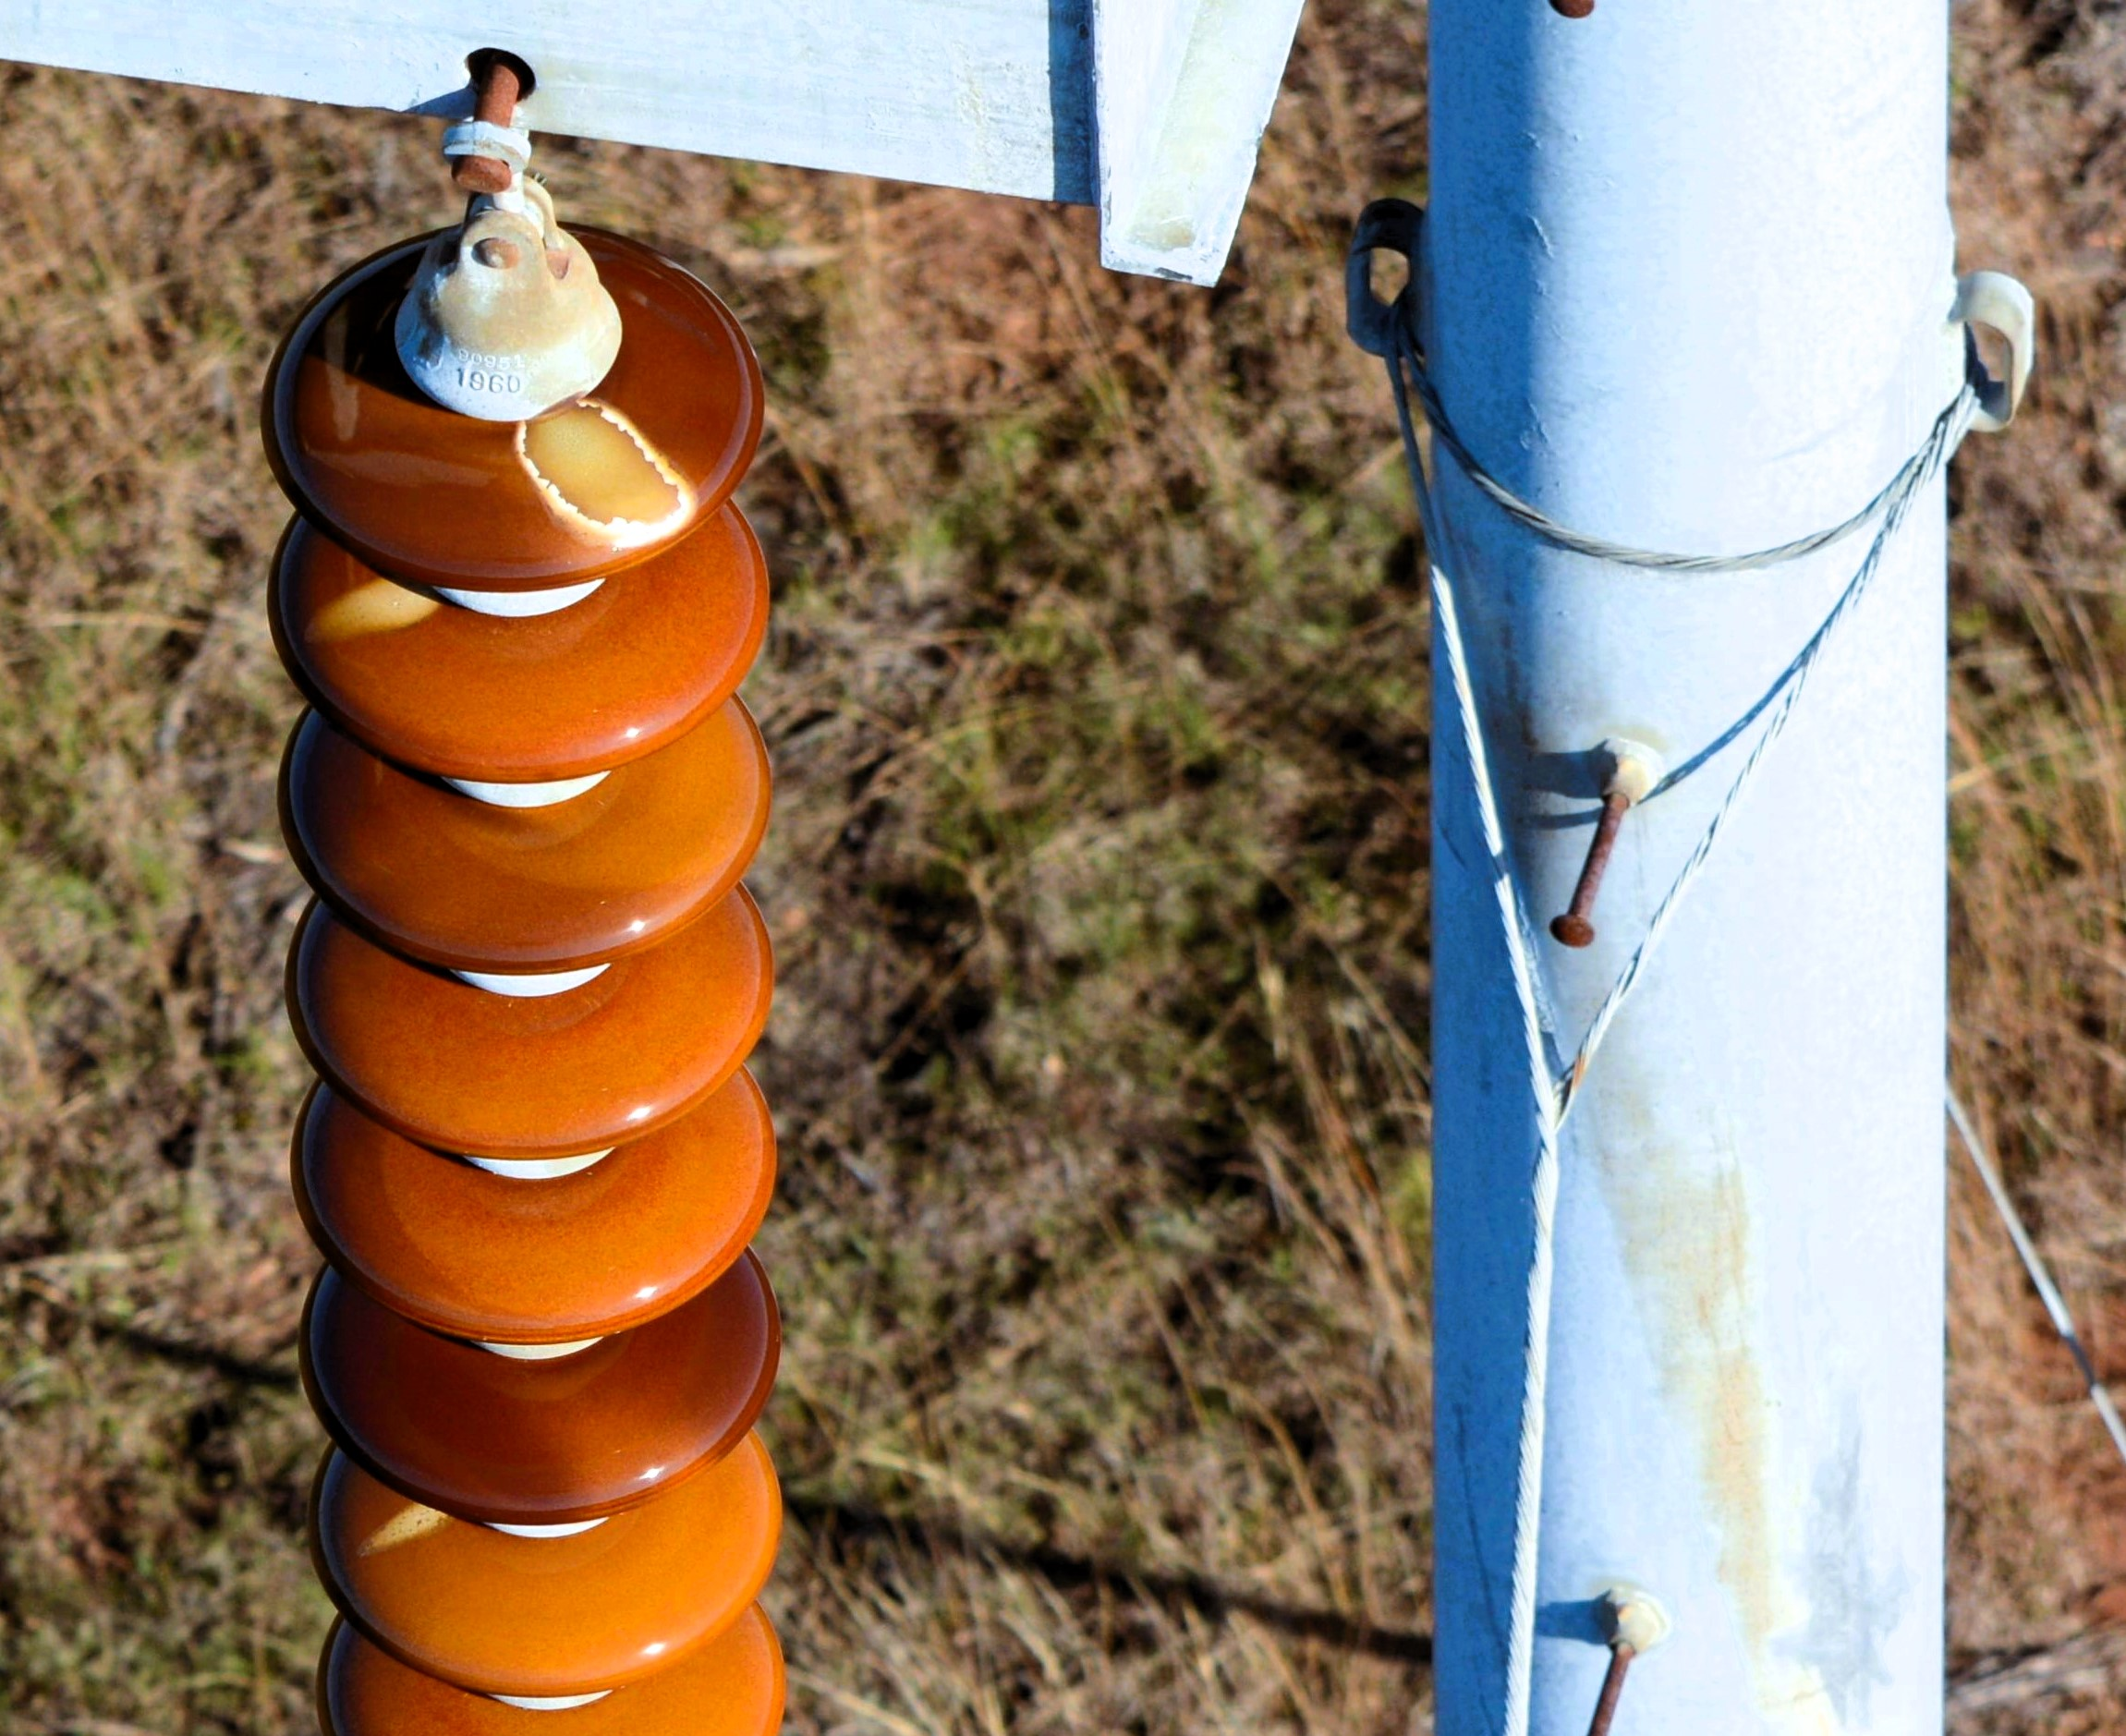Insulator flashover: (251, 207, 768, 609)
